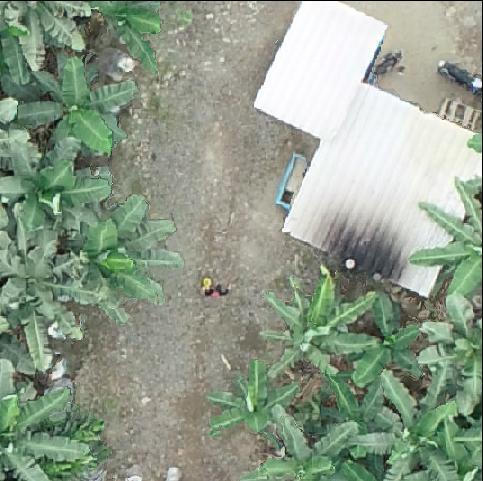Banana-plant: (0, 214, 114, 375), (63, 194, 184, 328), (7, 52, 139, 165), (354, 368, 483, 481), (259, 271, 382, 385), (0, 134, 114, 246), (0, 355, 96, 479), (406, 175, 483, 307), (246, 407, 367, 481), (335, 292, 421, 387), (414, 291, 483, 405), (205, 361, 303, 438), (0, 0, 97, 75), (321, 367, 391, 460), (82, 0, 163, 78)
